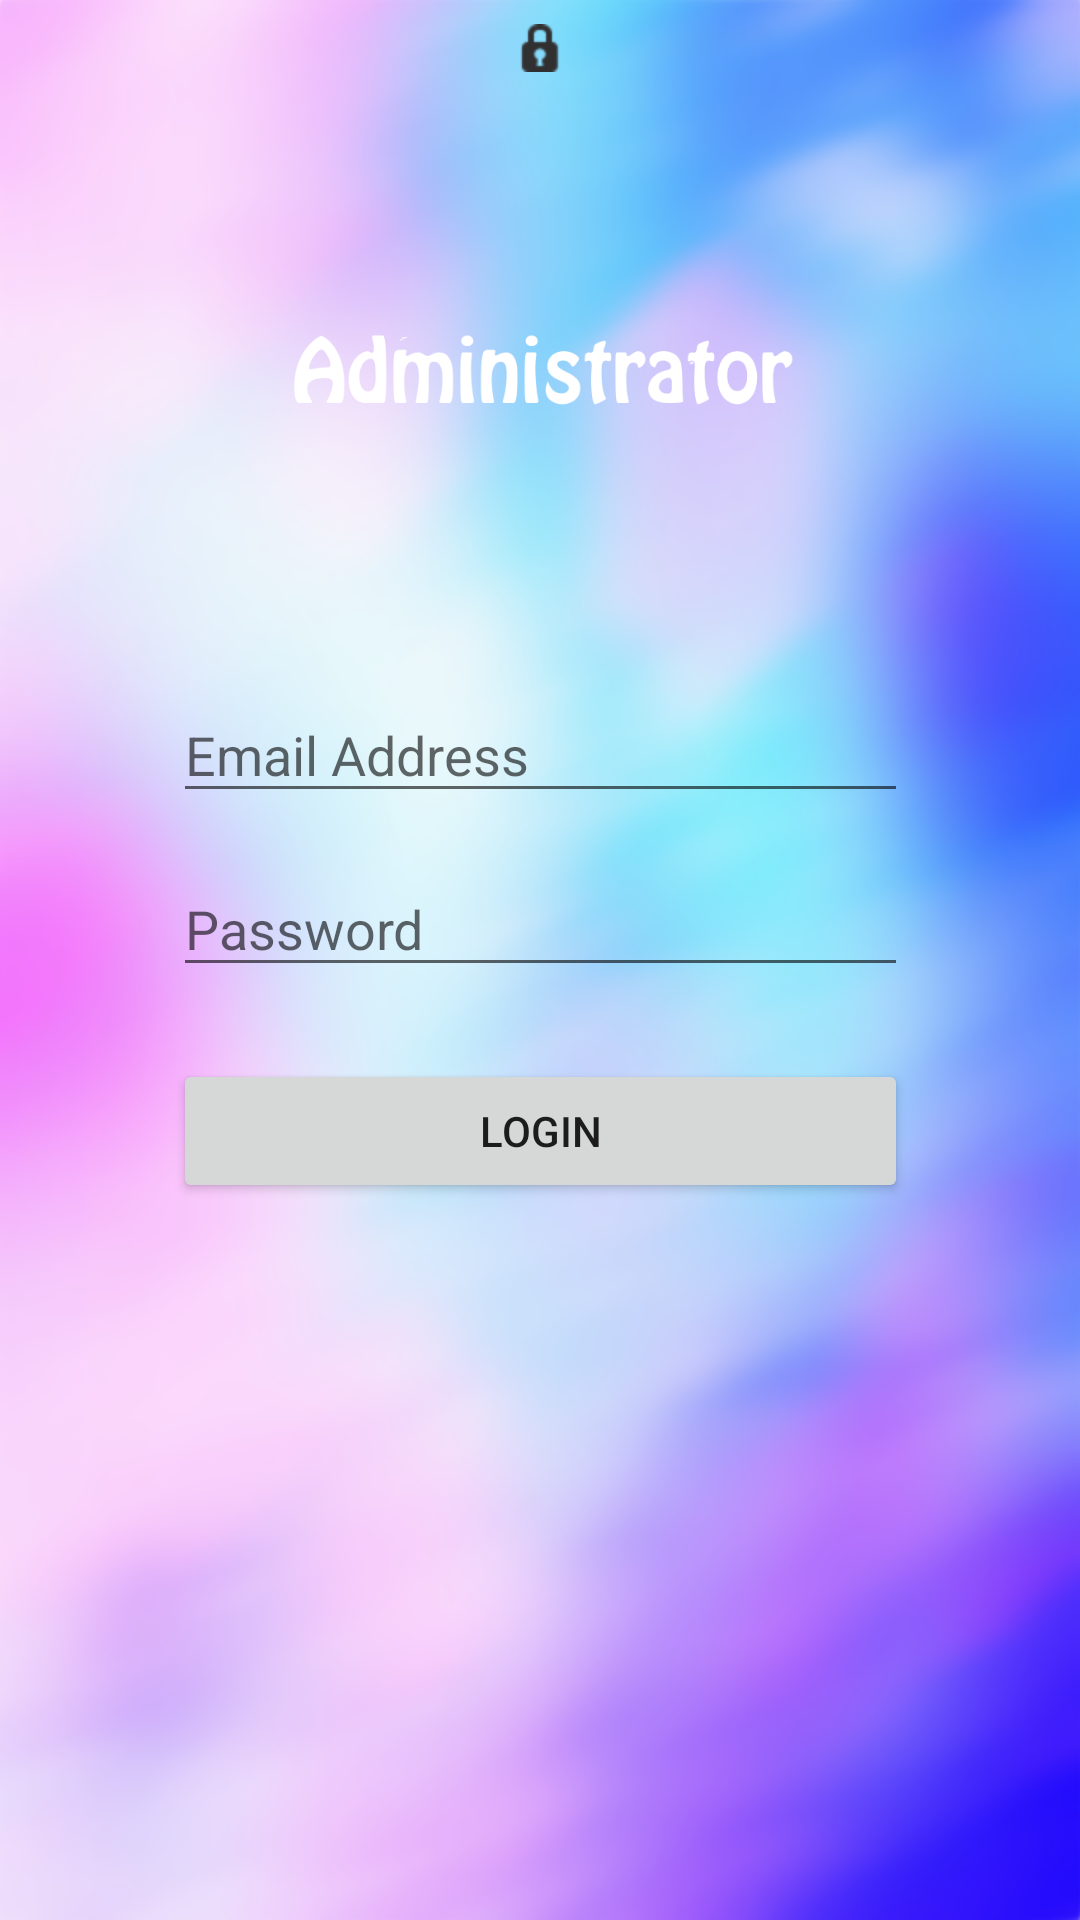

Screen size 1080 × 1920. Icon name, then its center in pixels as point (x, y):
secure: point (540, 48)
